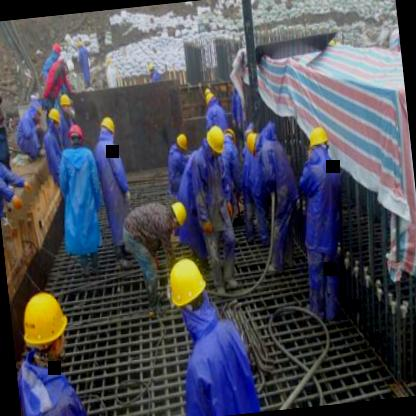helmet: (14, 282, 74, 368), (164, 251, 212, 322), (303, 118, 331, 156), (165, 199, 189, 229), (204, 126, 226, 158), (242, 129, 262, 158), (65, 121, 85, 148), (172, 130, 191, 154), (43, 106, 62, 128), (221, 124, 237, 148), (58, 92, 72, 115), (47, 40, 61, 58), (202, 90, 216, 108)
